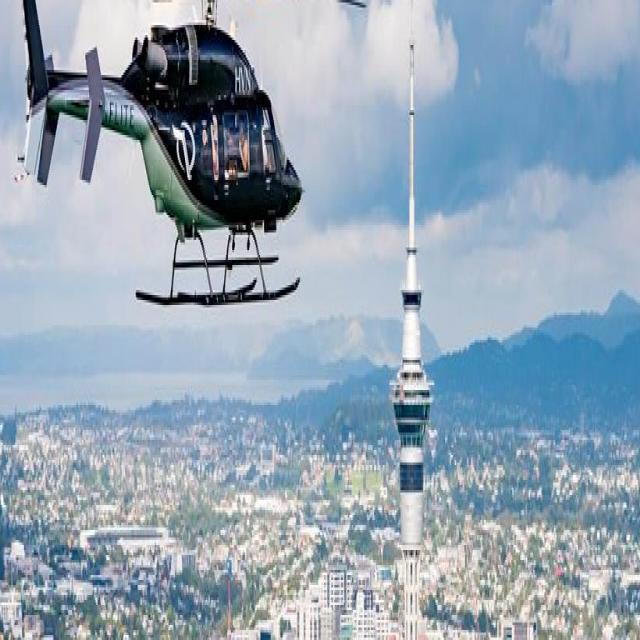helicopter: (11, 1, 369, 311)
